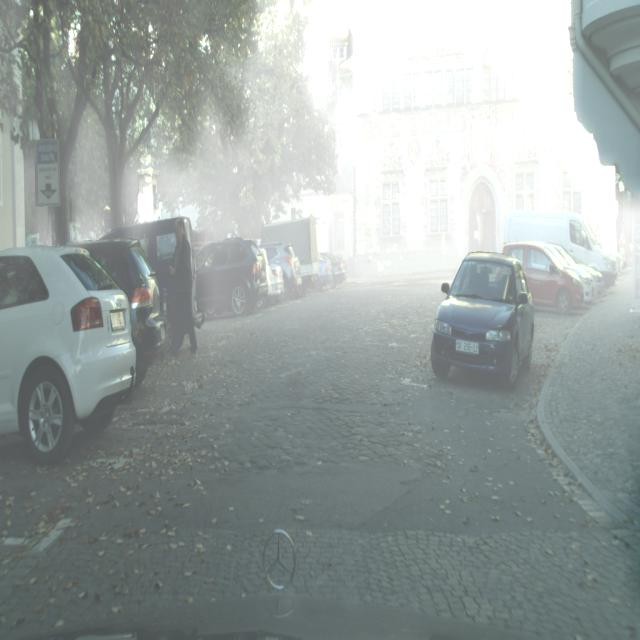bicycle: (503, 209, 622, 286), (260, 214, 323, 295)
bus: (0, 246, 137, 464), (430, 251, 535, 387), (82, 239, 167, 384), (106, 218, 204, 327), (502, 239, 588, 312), (194, 238, 268, 317), (262, 242, 303, 300), (318, 252, 334, 289), (329, 254, 347, 286)
person: (168, 218, 198, 358)
